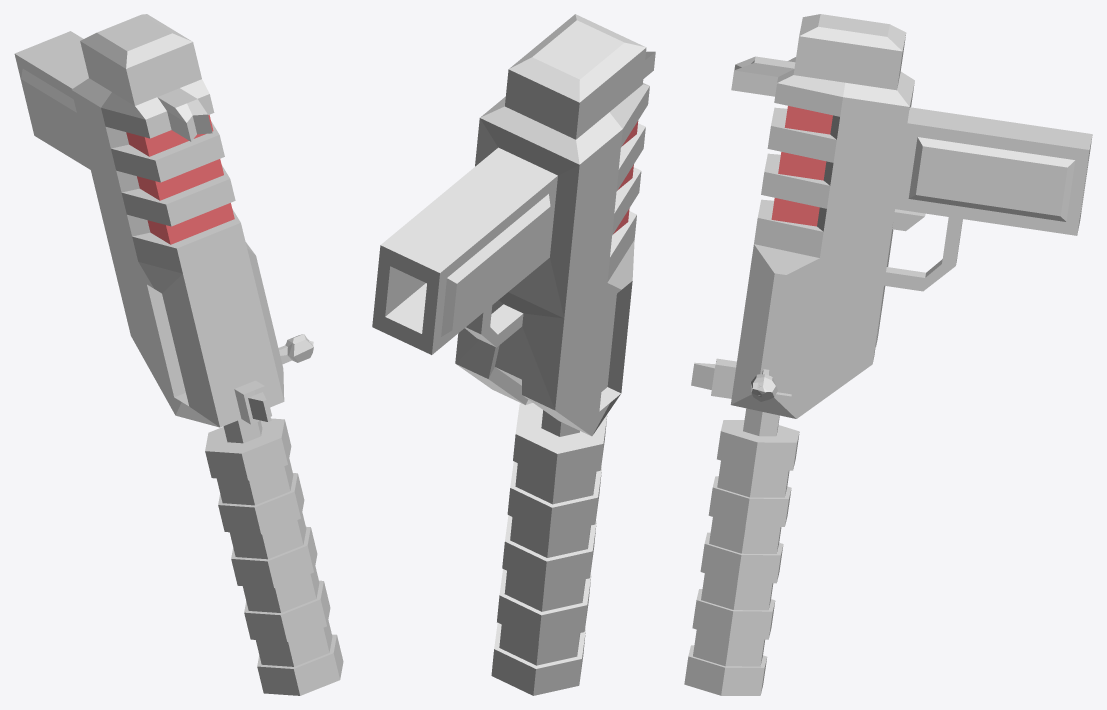
The model's file is Uzi.fbx.
The picture shows the model from 3 angles, left to right: view 1: azimuth 30°, elevation 25°; view 2: azimuth 150°, elevation 25°; view 3: azimuth 270°, elevation 25°; orthographic projection. The views are drawn at different scales.
Parts seen in each view (by area): view 1: Base, Shutter; view 2: Base; view 3: Base, Shutter.
Part boxes in pixels (x1,y1,x2,y2): Base: (14, 14, 343, 695); Shutter: (278, 334, 313, 364); Base: (372, 14, 655, 695); Base: (684, 14, 1092, 695); Shutter: (750, 369, 777, 401).
Size of the model in its own units: 0.1091 by 0.3739 by 0.221.
